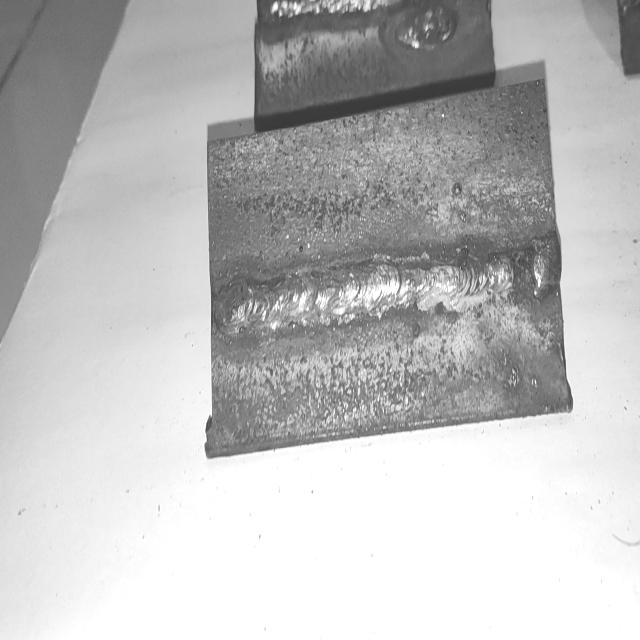Bad Weld: (220, 241, 562, 337)
Defect: (507, 229, 560, 302)
